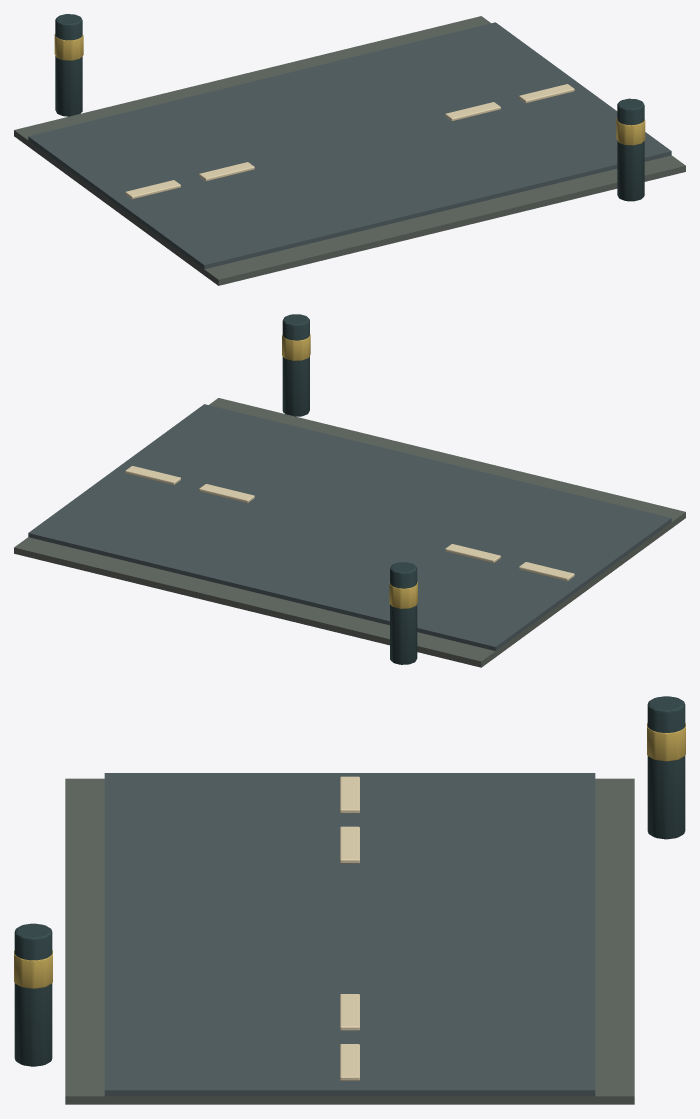
The model's file is road.glb.
3 renders of one model, top to bottom at view 1: azimuth 30°, elevation 25°; view 2: azimuth 150°, elevation 25°; view 3: azimuth 270°, elevation 25°, orthographic. The views are drawn at different scales.
Parts seen in each view (by area): view 1: road · asphalt, road · stone_dark, road · metal, road · road_line, road · crop; view 2: road · asphalt, road · stone_dark, road · metal, road · road_line, road · crop; view 3: road · asphalt, road · stone_dark, road · metal, road · road_line, road · crop.
Boxes of the visible parts, x1,y1,x2,y2 form: road · asphalt: (28,22,671,269); road · stone_dark: (14,16,685,285); road · metal: (55,14,644,201); road · road_line: (125,84,574,199); road · crop: (54,34,645,145); road · asphalt: (28,404,671,650); road · stone_dark: (14,398,685,667); road · metal: (282,314,417,664); road · road_line: (125,466,574,581); road · crop: (282,334,417,608); road · asphalt: (104,773,595,1096); road · stone_dark: (65,778,634,1104); road · metal: (14,696,685,1066); road · road_line: (340,776,359,1080); road · crop: (14,723,685,988).
Size of the model in its own units: 0.95 by 0.18 by 0.8495.
